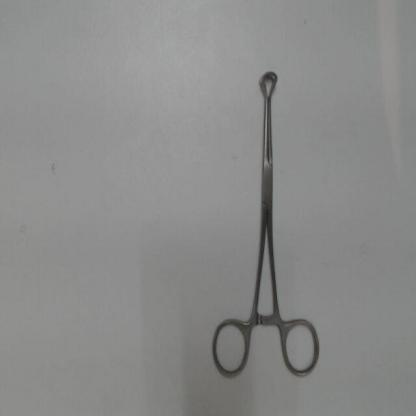Babcock Tissue Forceps: (211, 67, 325, 384)
